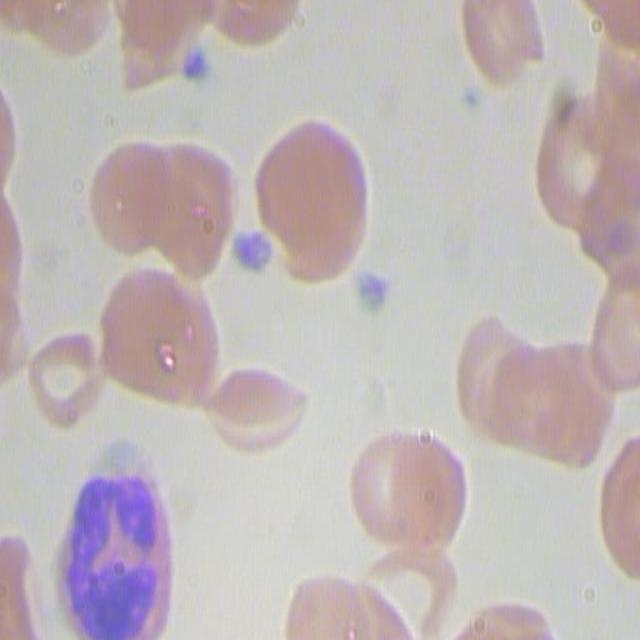RBC: (454, 318, 610, 476), (87, 134, 232, 300), (253, 118, 374, 284), (93, 256, 219, 411), (348, 428, 470, 559), (531, 100, 631, 232), (222, 354, 333, 462), (280, 569, 414, 640), (4, 72, 29, 439), (589, 235, 640, 404), (27, 327, 108, 430), (457, 0, 544, 85), (3, 0, 117, 62), (454, 585, 580, 640), (596, 427, 640, 580), (189, 0, 304, 49)
WBC: (54, 449, 180, 640)
platelets: (346, 261, 392, 315), (228, 227, 276, 277), (181, 47, 214, 92), (456, 84, 484, 115)
